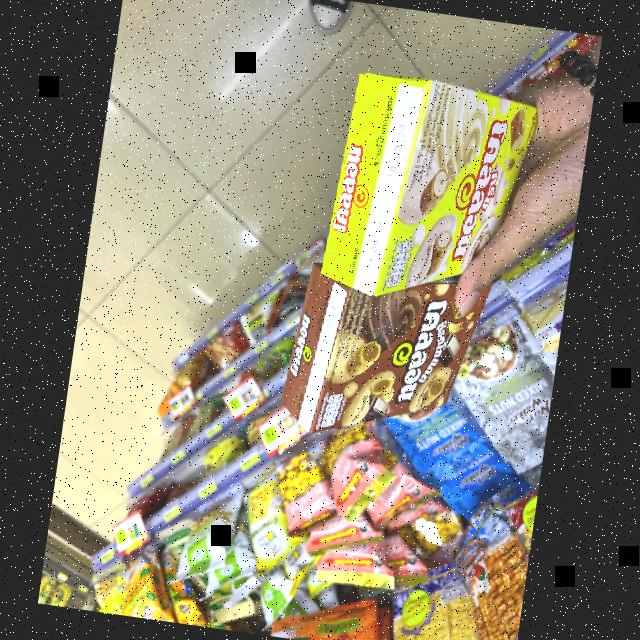cardboard_box: (306, 56, 542, 314), (252, 242, 502, 464)
